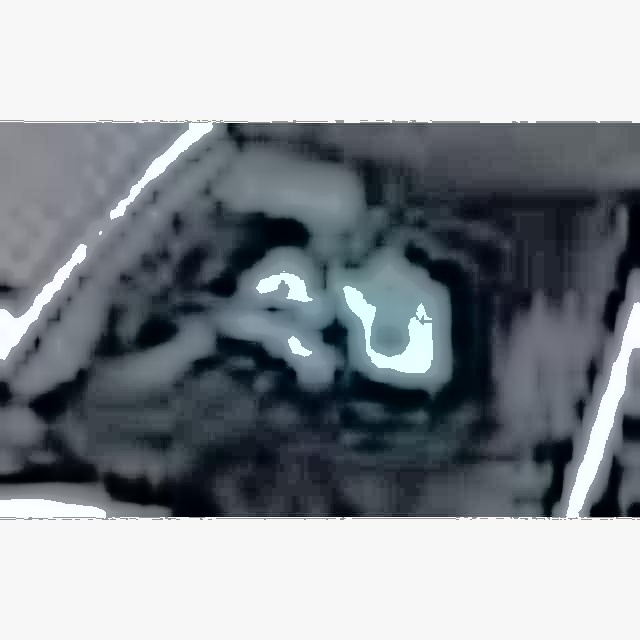pakai: (224, 187, 448, 390)
